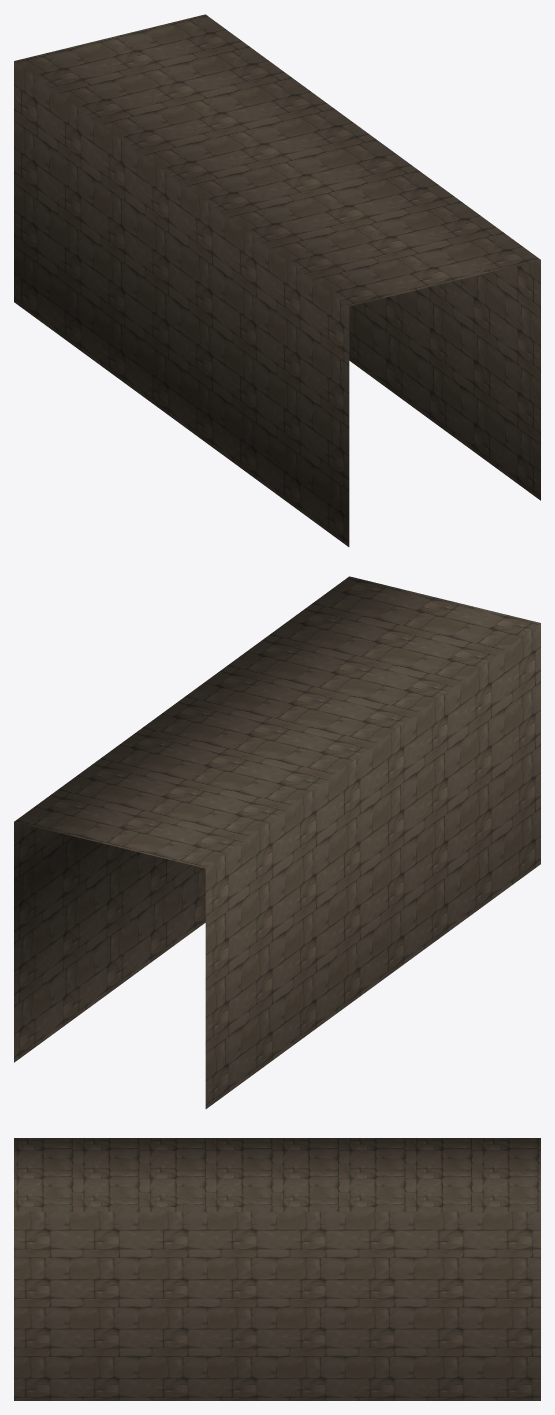
File: sn_longmai_baseframe_003.FBX
3 views of the same model, one above another, from view 1: azimuth 30°, elevation 25°; view 2: azimuth 150°, elevation 25°; view 3: azimuth 270°, elevation 25° (orthographic). The views are drawn at different scales.
Parts seen in each view (by area): view 1: sn_longmai_baseframe_003; view 2: sn_longmai_baseframe_003; view 3: sn_longmai_baseframe_003.
Boxes of the visible parts, x1,y1,x2,y2 form: sn_longmai_baseframe_003: (14,14,540,546); sn_longmai_baseframe_003: (14,576,540,1108); sn_longmai_baseframe_003: (14,1138,540,1400).
Size of the model in its own units: 832 by 1000 by 2522.
